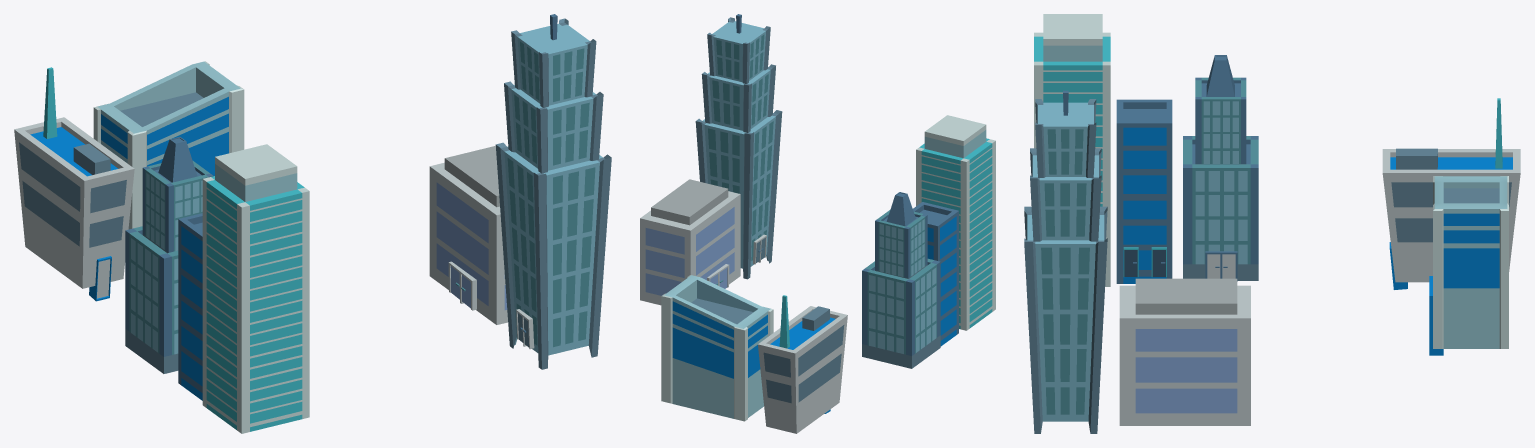
The model's file is SKYSCRAPERS.fbx.
3 renders of one model, left to right at view 1: azimuth 30°, elevation 25°; view 2: azimuth 150°, elevation 25°; view 3: azimuth 270°, elevation 25°, orthographic. The views are drawn at different scales.
Parts seen in each view (by area): view 1: pCube14, pCube1, pCube7, pCube16, pCube17, pCube11, pCube18, pCube19, pCube10, pCube20, pCube13, polySurface1 (+4 smaller); view 2: pCube16, pCube14, pCube17, pCube7, pCube1, pCube11, pCube18, pCube10, pCube19, pCube20, pCube13, pCube8 (+2 smaller); view 3: pCube17, pCube1, pCube16, pCube10, pCube11, pCube14, pCube7, pCube18, pCube19, pCube20, pCube13, pCube8 (+3 smaller).
Part boxes in pixels (x1,y1,x2,y2): pCube14: [202, 144, 309, 433]; pCube1: [495, 142, 611, 369]; pCube7: [14, 117, 134, 288]; pCube16: [93, 61, 244, 229]; pCube17: [429, 146, 507, 324]; pCube11: [125, 226, 178, 373]; pCube18: [504, 81, 603, 173]; pCube19: [511, 18, 596, 107]; pCube10: [178, 213, 202, 400]; pCube20: [142, 161, 213, 253]; pCube13: [158, 137, 197, 182]; polySurface1: [448, 261, 476, 310]; pCube16: [661, 275, 773, 421]; pCube14: [916, 115, 995, 330]; pCube17: [640, 179, 740, 305]; pCube7: [758, 306, 847, 433]; pCube1: [695, 110, 782, 279]; pCube11: [862, 258, 940, 368]; pCube18: [701, 64, 775, 132]; pCube10: [913, 202, 958, 346]; pCube19: [707, 17, 770, 83]; pCube20: [875, 209, 927, 278]; pCube13: [886, 192, 915, 226]; pCube8: [802, 306, 829, 330]; pCube17: [1119, 278, 1250, 425]; pCube1: [1024, 206, 1107, 433]; pCube16: [1433, 176, 1508, 348]; pCube10: [1116, 99, 1172, 283]; pCube11: [1183, 136, 1258, 280]; pCube14: [1034, 14, 1110, 286]; pCube7: [1382, 149, 1520, 282]; pCube18: [1030, 148, 1101, 241]; pCube19: [1035, 99, 1096, 177]; pCube20: [1195, 77, 1246, 164]; pCube13: [1206, 55, 1234, 96]; pCube8: [1396, 148, 1437, 169].
Size of the model in its own units: 68.87 by 61.82 by 82.05.
